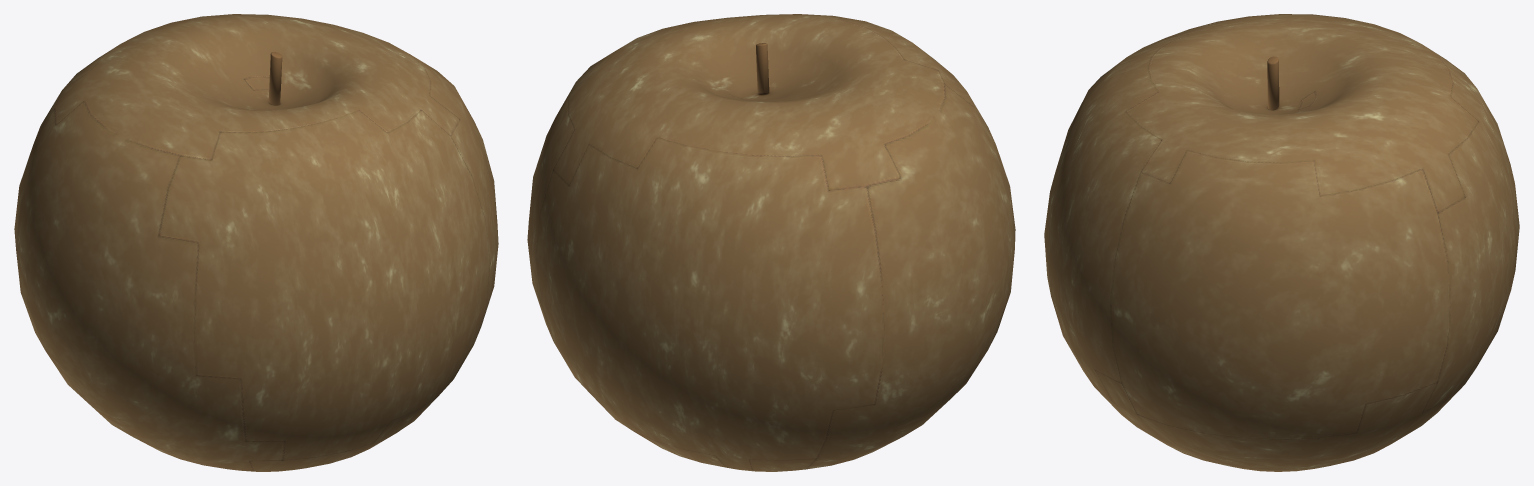
The model's file is Japanese pear.fbx.
3 views of the same model, side by side, from view 1: azimuth 30°, elevation 25°; view 2: azimuth 150°, elevation 25°; view 3: azimuth 270°, elevation 25° (orthographic).
Parts seen in each view (by area): view 1: Japanese pear; view 2: Japanese pear; view 3: Japanese pear.
Boxes of the visible parts, x1=… form: Japanese pear: x1=14, y1=14, x2=498, y2=471; Japanese pear: x1=527, y1=14, x2=1015, y2=471; Japanese pear: x1=1044, y1=14, x2=1519, y2=471.
Bounding box in the file's own units: 25.4 × 22.14 × 24.94.
Materials: 3 (1 with a texture image).
